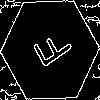F: (25, 25, 74, 76)
